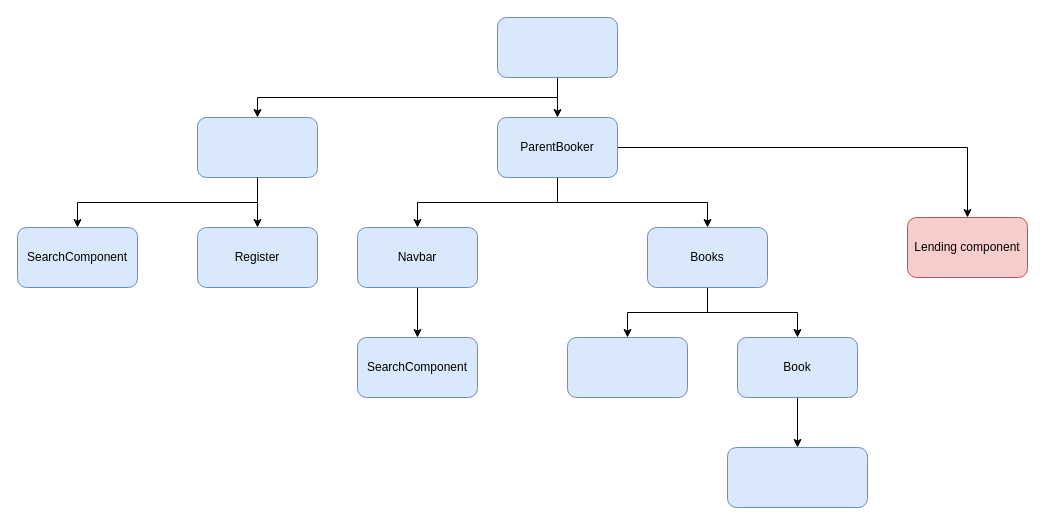
This 1045x525 diagram has some shape labels left out. Here are the shapes that lost their labels. From the top down, the centre of each, then its label:
pixel 557 47: App
pixel 257 147: Login
pixel 627 367: SideComponent
pixel 797 477: StarRatingComponent
